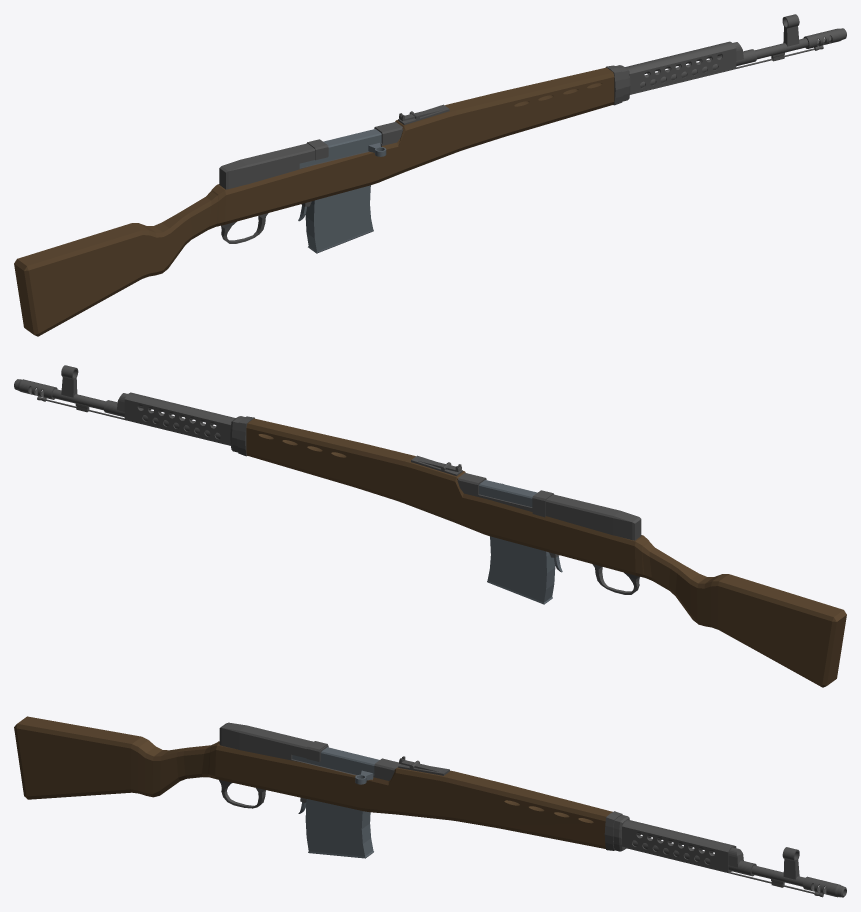
The model's file is svt40.glb.
3 views of the same model, one above another, from view 1: azimuth 30°, elevation 25°; view 2: azimuth 150°, elevation 25°; view 3: azimuth 330°, elevation 25° (orthographic).
Parts seen in each view (by area): view 1: SVT-Stock, SVT-barrel, SVT-Mag, SVT-receiver, SVT-Heatshield, SVT-bolt; view 2: SVT-Stock, SVT-receiver, SVT-barrel, SVT-Mag, SVT-Heatshield, SVT-bolt; view 3: SVT-Stock, SVT-barrel, SVT-Mag, SVT-receiver, SVT-Heatshield, SVT-bolt, SVT-Sights, SVT-trigger.
Part boxes in pixels (x1,y1,x2,y2): SVT-Stock: [14, 67, 614, 336]; SVT-barrel: [605, 14, 846, 105]; SVT-Mag: [305, 185, 373, 253]; SVT-receiver: [219, 122, 403, 189]; SVT-Heatshield: [625, 41, 736, 93]; SVT-bolt: [299, 129, 386, 167]; SVT-Stock: [246, 418, 846, 687]; SVT-receiver: [457, 473, 641, 540]; SVT-barrel: [14, 365, 254, 456]; SVT-Mag: [487, 536, 555, 604]; SVT-Heatshield: [124, 392, 235, 444]; SVT-bolt: [479, 480, 537, 507]; SVT-Stock: [14, 716, 612, 848]; SVT-barrel: [604, 811, 846, 897]; SVT-Mag: [305, 799, 373, 858]; SVT-receiver: [219, 722, 400, 780]; SVT-Heatshield: [622, 819, 736, 872]; SVT-bolt: [292, 747, 379, 784]; SVT-Sights: [398, 756, 449, 775]; SVT-trigger: [219, 780, 265, 808].
Size of the model in its own units: 9.57 by 1.46 by 0.376.
